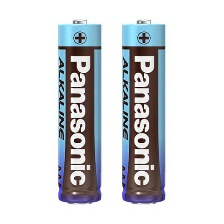battery: (119, 15, 168, 207), (55, 18, 104, 206)
